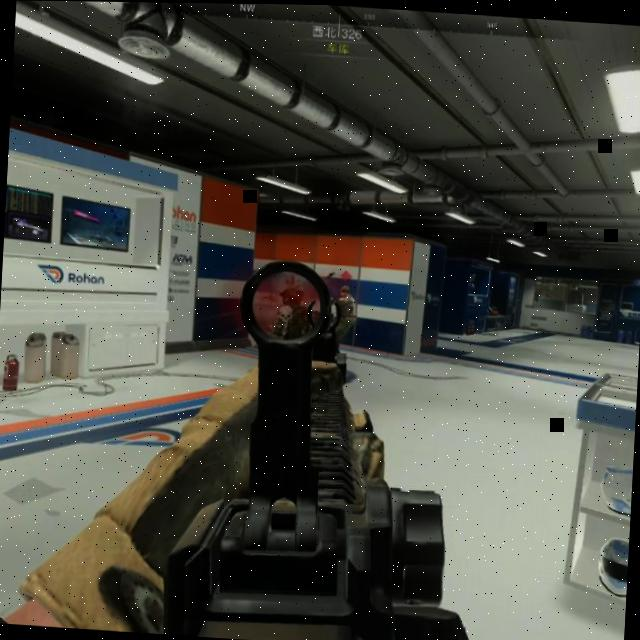MW2_body: (328, 270, 358, 351)
